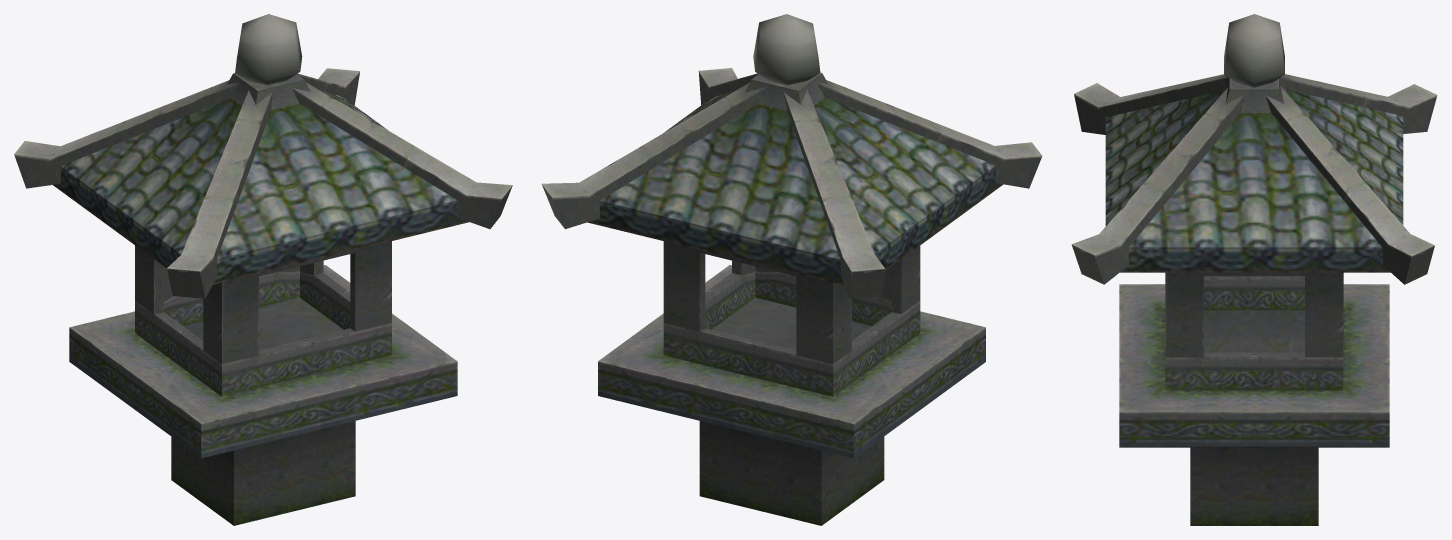
The model's file is yw_yanziwu_shideng01.FBX.
The picture shows the model from 3 angles, left to right: view 1: azimuth 30°, elevation 25°; view 2: azimuth 150°, elevation 25°; view 3: azimuth 270°, elevation 25°; orthographic projection. The views are drawn at different scales.
Visible parts, largest first — view 1: yw_yanziwu_shideng01; view 2: yw_yanziwu_shideng01; view 3: yw_yanziwu_shideng01.
Part boxes in pixels (x1=…): yw_yanziwu_shideng01: x1=14, y1=14, x2=512, y2=525; yw_yanziwu_shideng01: x1=541, y1=14, x2=1042, y2=525; yw_yanziwu_shideng01: x1=1071, y1=14, x2=1437, y2=525.
Size of the model in its own units: 110 by 143 by 98.31.
